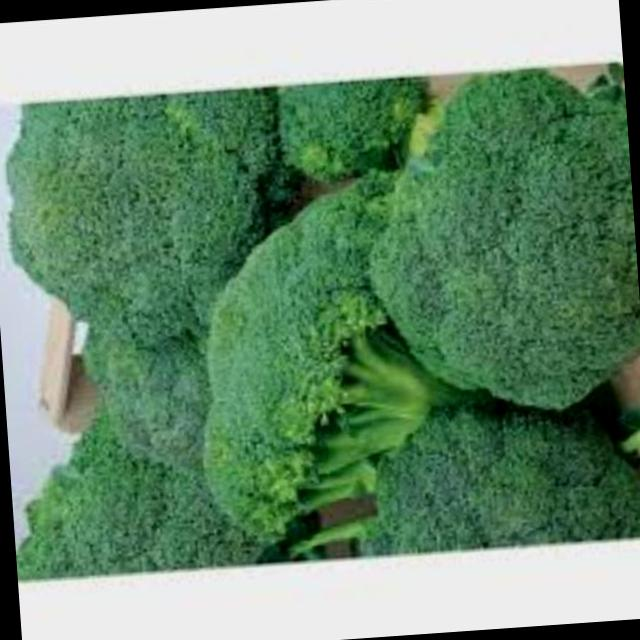Broccoli: (170, 183, 442, 541), (11, 58, 322, 364), (357, 94, 640, 395), (336, 317, 634, 600), (1, 305, 292, 579)
